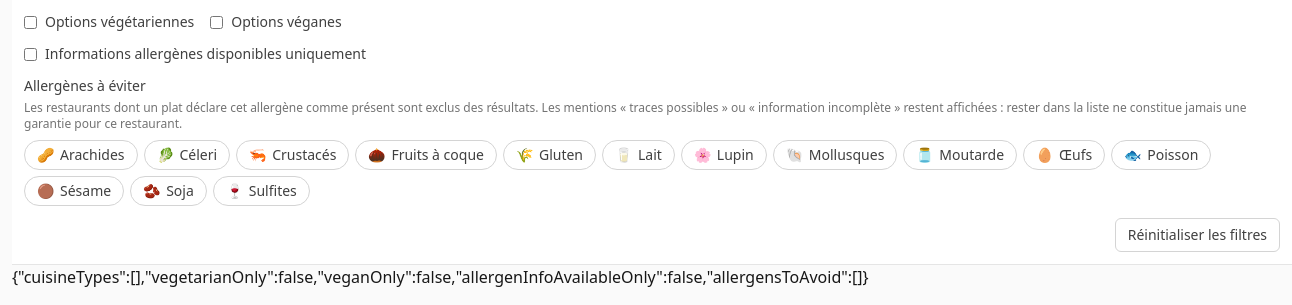
Test case: SearchFilterBar › resets all filters back to defaults
This screenshot has width=1292, height=305.
Click the checkbox labelled "Options végétariennes" at (30, 22), box [24, 16, 37, 28]
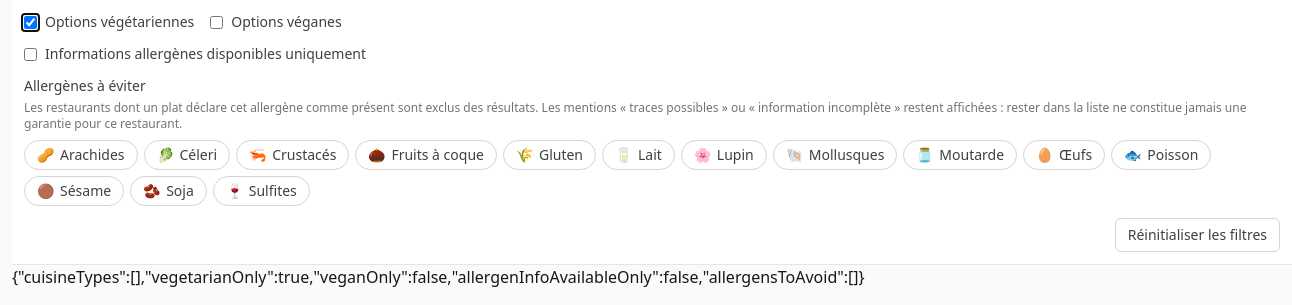
Click the checkbox labelled "Gluten" at (549, 155), box [503, 140, 596, 170]
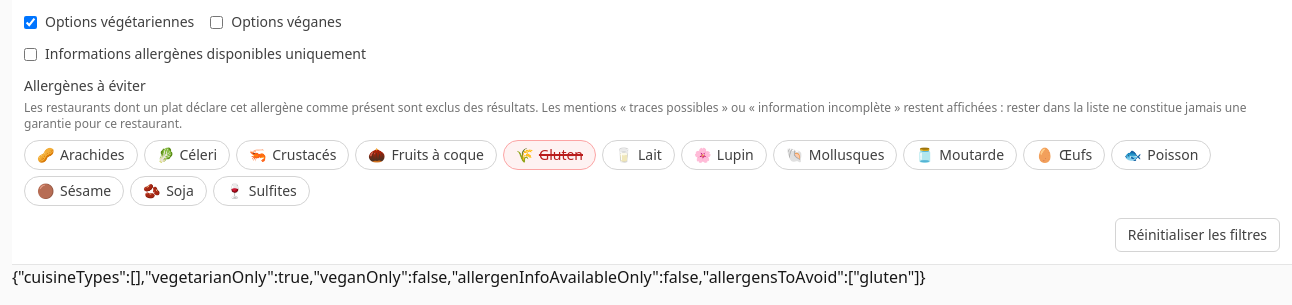
Click the button "Réinitialiser les filtres" at (1197, 235), box [1115, 218, 1280, 252]
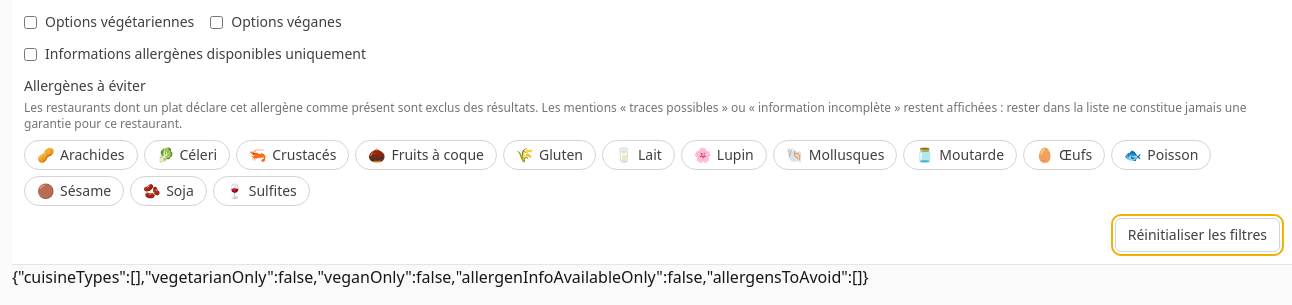
expect the text with test id "state" shows "\"vegetarianOnly\":false": met, box [12, 266, 869, 288]
expect the text with test id "state" shows "\"allergensToAvoid\":[]": met, box [12, 266, 869, 288]
